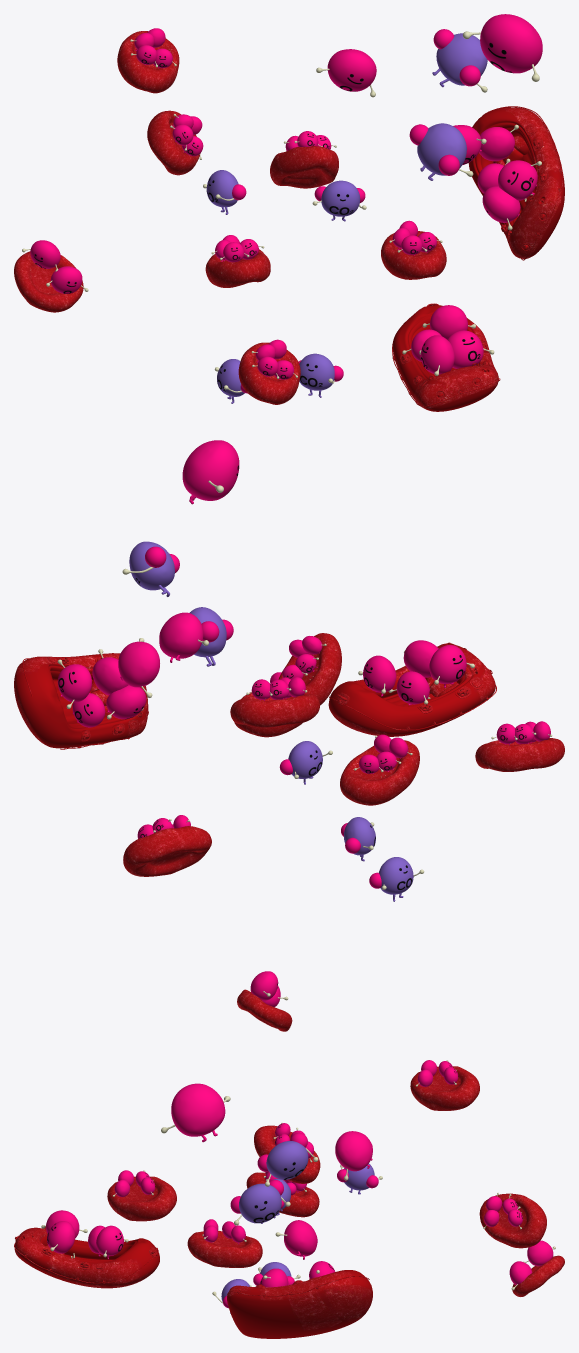
File: platelet-2.glb
3 renders of one model, top to bottom at view 1: azimuth 30°, elevation 25°; view 2: azimuth 150°, elevation 25°; view 3: azimuth 270°, elevation 25°, orthographic. The views are drawn at different scales.
Parts seen in each view (by area): view 1: Fishing_boat_Boat_0.302_480, Cube.019_266, Fishing_boat_Boat_0.005_3, blood.005_522, blood.007_166, blood.001_270, blood.004_309, blood.002_165, blood.003_499, blood.009_236, Cube.093_176, Cube.002_196 (+20 smaller); view 2: Fishing_boat_Boat_0.005_3, Fishing_boat_Boat_0.030_335, blood.003_499, blood.009_236, Cube.019_266, blood.001_270, blood.004_309, Fishing_boat_Boat_0.302_480, blood.005_522, Cube.093_176, Cube.095_181, Cube.003_202 (+13 smaller); view 3: Fishing_boat_Boat_0.026_332, Fishing_boat_Boat_0.003_164, Cube.019_266, blood.003_499, blood.004_309, blood.001_270, blood.002_165, Fishing_boat_Boat_0.302_480, Cube.002_196, Cube.003_202, Cube.093_176, blood.005_522 (+12 smaller).
Boxes of the visible parts, x1=… form: Fishing_boat_Boat_0.302_480: x1=478, y1=107, x2=563, y2=235; Cube.019_266: x1=480, y1=14, x2=542, y2=73; Fishing_boat_Boat_0.005_3: x1=392, y1=305, x2=461, y2=408; blood.005_522: x1=270, y1=146, x2=338, y2=188; blood.007_166: x1=14, y1=251, x2=83, y2=312; blood.001_270: x1=117, y1=31, x2=179, y2=93; blood.004_309: x1=238, y1=342, x2=300, y2=404; blood.002_165: x1=381, y1=231, x2=446, y2=279; blood.003_499: x1=147, y1=110, x2=200, y2=175; blood.009_236: x1=205, y1=249, x2=270, y2=287; Cube.093_176: x1=327, y1=49, x2=376, y2=91; Cube.002_196: x1=417, y1=123, x2=466, y2=175; Fishing_boat_Boat_0.005_3: x1=338, y1=655, x2=495, y2=733; Fishing_boat_Boat_0.030_335: x1=20, y1=690, x2=148, y2=748; blood.003_499: x1=123, y1=826, x2=211, y2=876; blood.009_236: x1=340, y1=740, x2=419, y2=805; Cube.019_266: x1=182, y1=440, x2=239, y2=500; blood.001_270: x1=230, y1=693, x2=319, y2=727; blood.004_309: x1=475, y1=738, x2=564, y2=771; Fishing_boat_Boat_0.302_480: x1=16, y1=653, x2=146, y2=701; blood.005_522: x1=278, y1=633, x2=341, y2=705; Cube.093_176: x1=159, y1=612, x2=203, y2=658; Cube.095_181: x1=118, y1=641, x2=159, y2=687; Cube.003_202: x1=129, y1=541, x2=174, y2=590; Fishing_boat_Boat_0.026_332: x1=227, y1=1285, x2=372, y2=1338; Fishing_boat_Boat_0.003_164: x1=14, y1=1229, x2=157, y2=1285; Cube.019_266: x1=171, y1=1083, x2=225, y2=1136; blood.003_499: x1=479, y1=1193, x2=546, y2=1248; blood.004_309: x1=107, y1=1176, x2=176, y2=1221; blood.001_270: x1=410, y1=1066, x2=479, y2=1110; blood.002_165: x1=187, y1=1230, x2=262, y2=1267; Fishing_boat_Boat_0.302_480: x1=227, y1=1270, x2=370, y2=1300; Cube.002_196: x1=239, y1=1183, x2=281, y2=1223; Cube.003_202: x1=266, y1=1141, x2=308, y2=1179; Cube.093_176: x1=335, y1=1131, x2=372, y2=1171; blood.005_522: x1=254, y1=1125, x2=320, y2=1183.
Bounding box in the file's own units: 8.89 × 7.68 × 12.31.
Materials: 5 (3 with a texture image).
